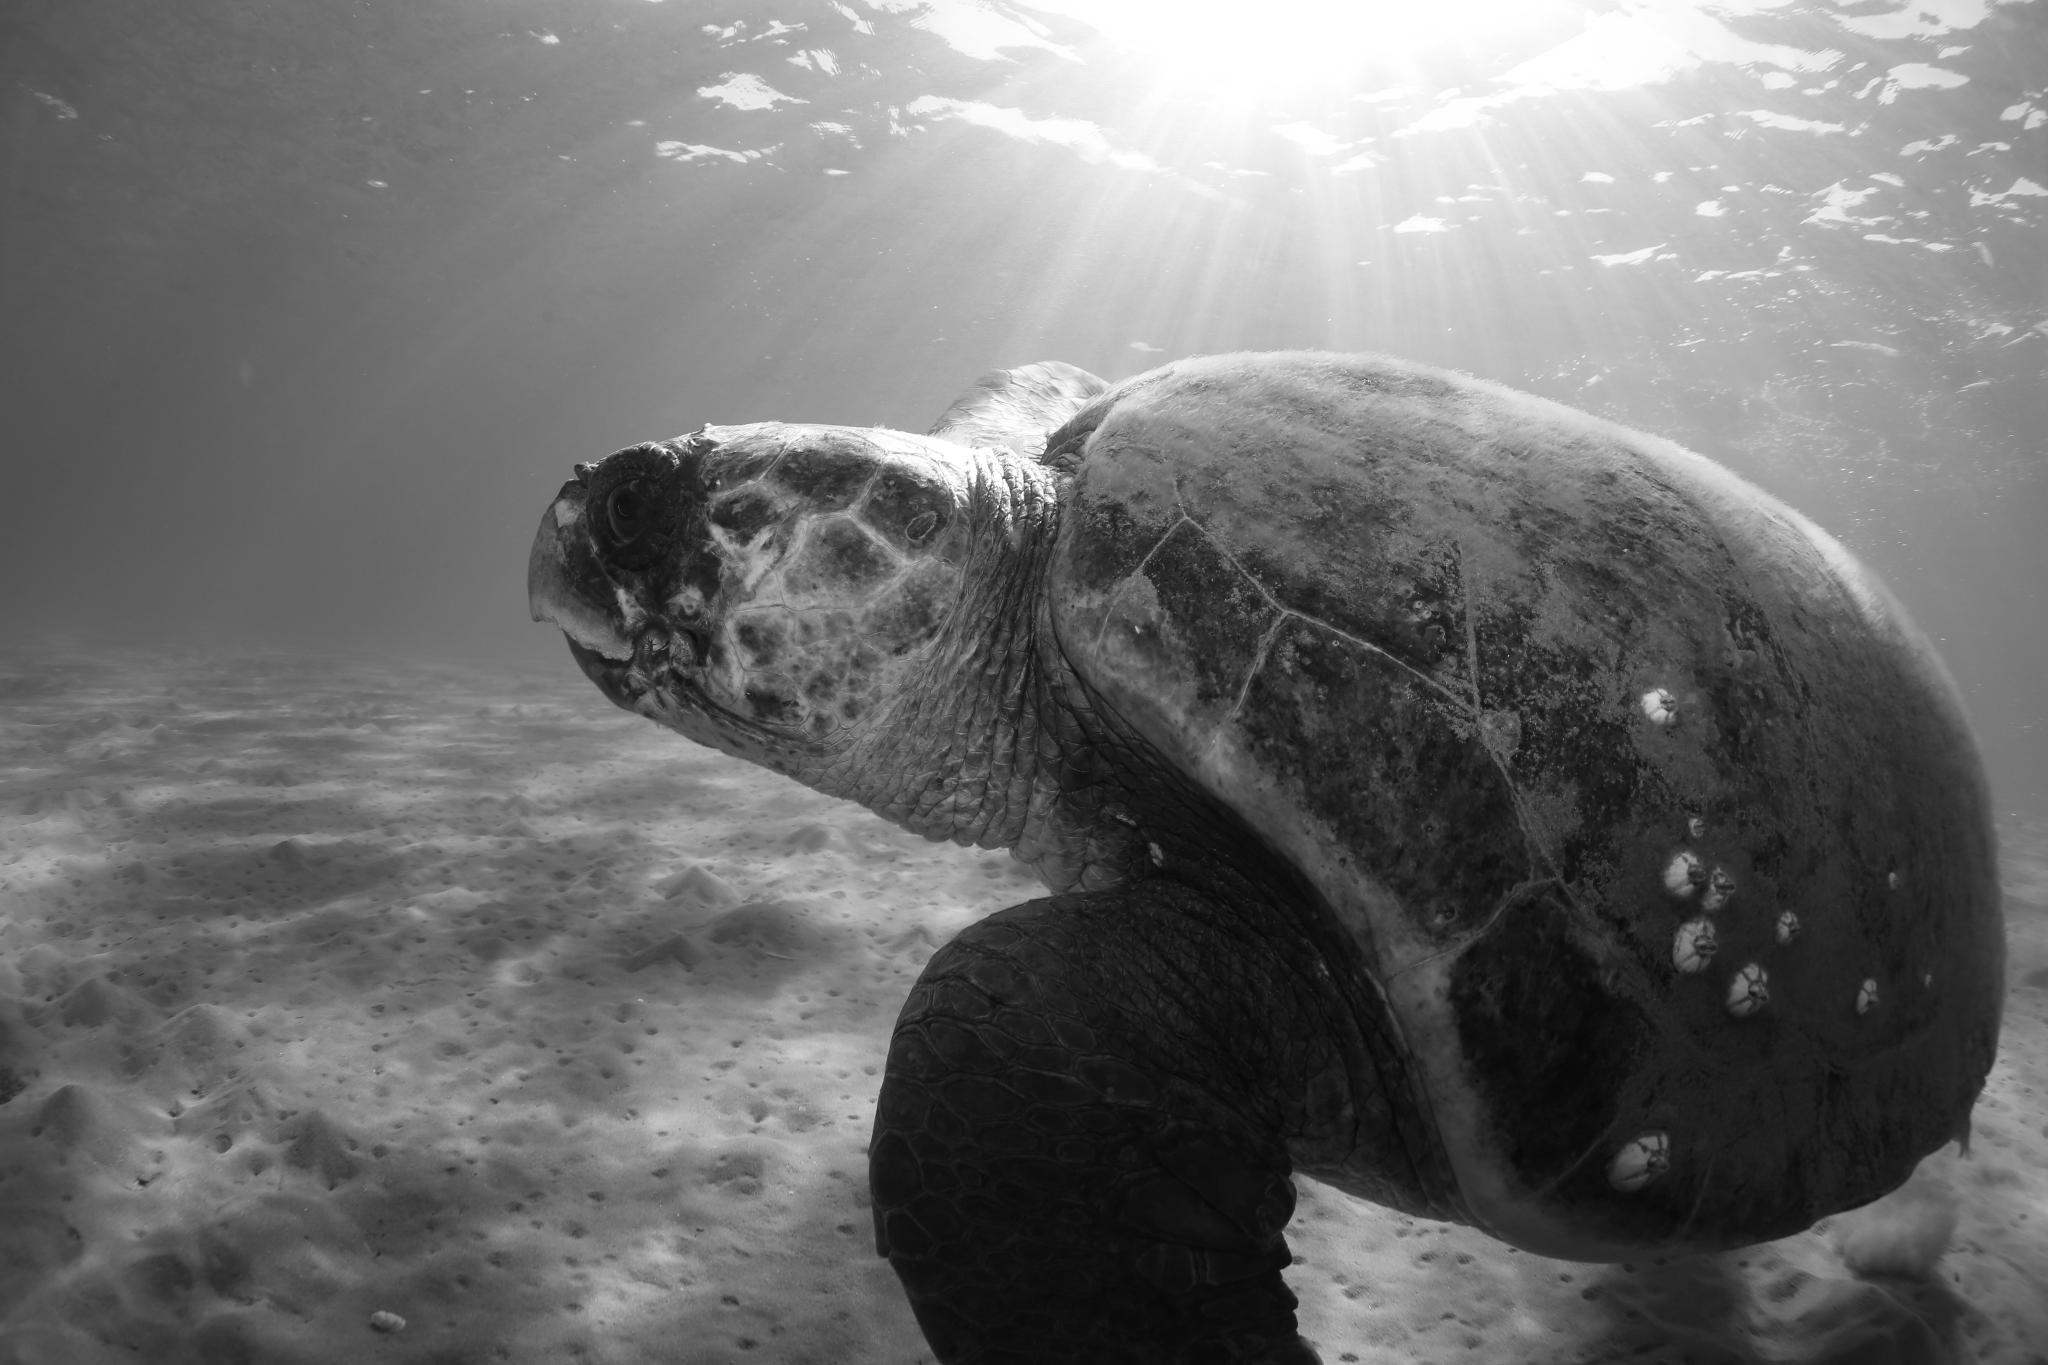Head: (529, 423, 1006, 843)
